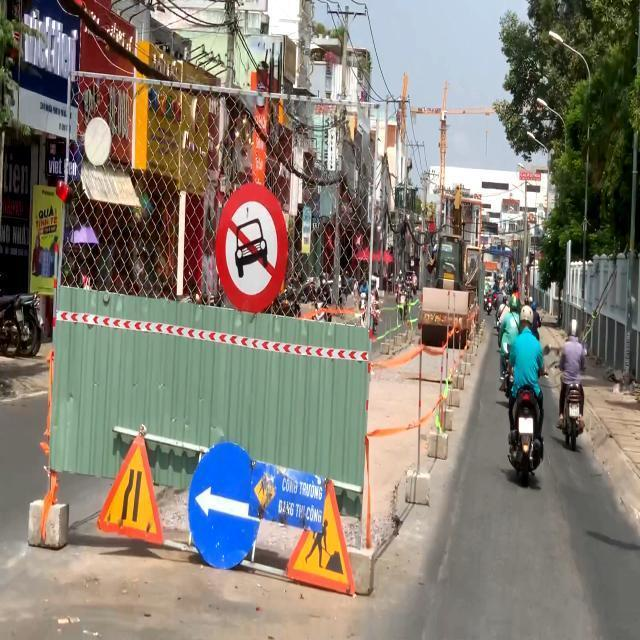103a-cam-oto: (214, 184, 288, 310)
203-duong-bi-hep: (90, 432, 166, 548)
227-cong-truong: (284, 478, 356, 594)
301c-cac-xe-chi-duoc-re-trai: (186, 441, 260, 571)
